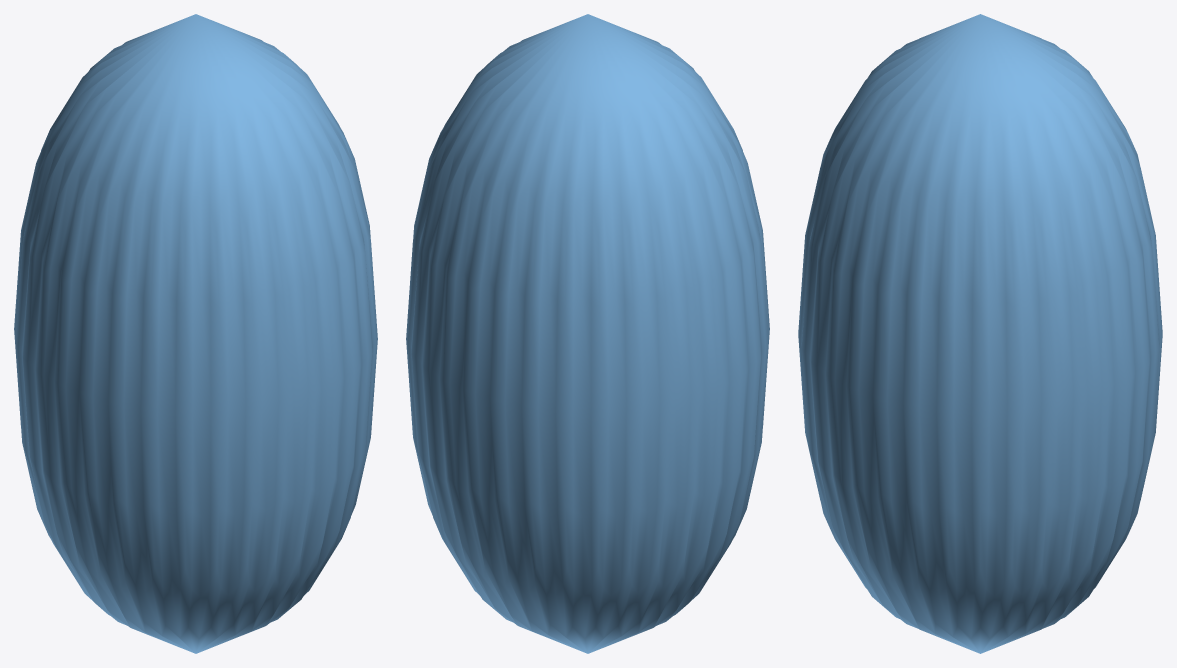
The model's file is outfit_kimono_traditional.glb.
The picture shows the model from 3 angles, left to right: view 1: azimuth 30°, elevation 25°; view 2: azimuth 150°, elevation 25°; view 3: azimuth 270°, elevation 25°; orthographic projection.
Parts seen in each view (by area): view 1: Cylinder; view 2: Cylinder; view 3: Cylinder.
Boxes of the visible parts, x1,y1,x2,y2 form: Cylinder: [14, 14, 377, 653]; Cylinder: [406, 14, 769, 653]; Cylinder: [798, 14, 1162, 653].
Size of the model in its own units: 0.5458 by 1.06 by 0.5458.
